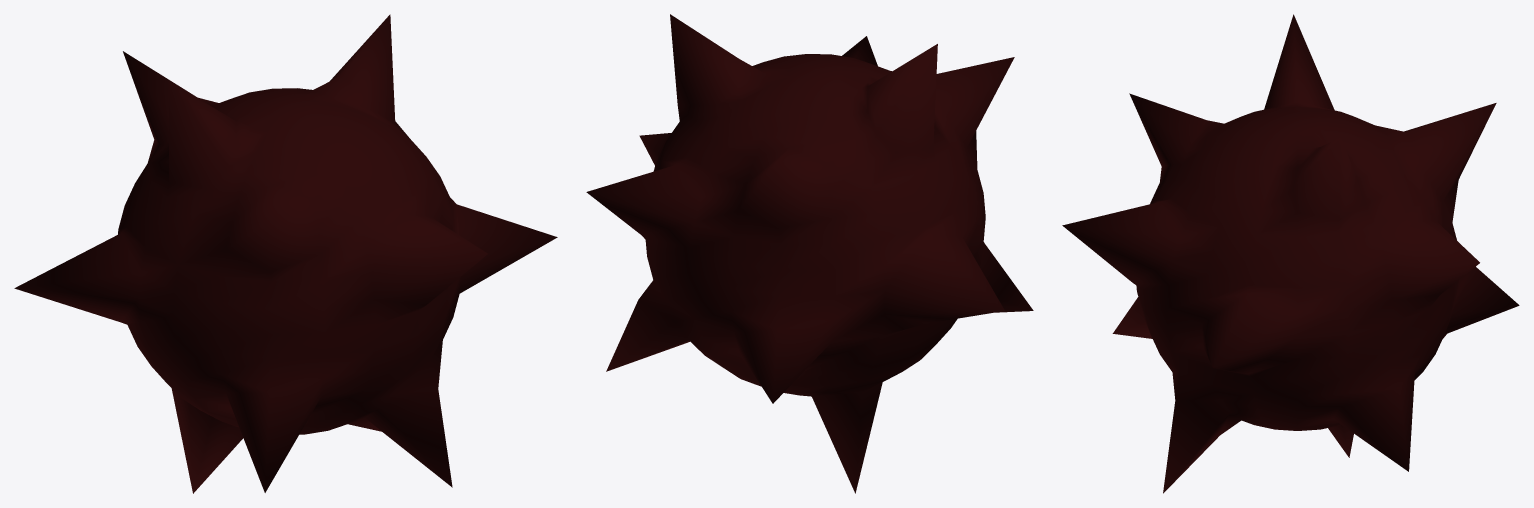
The model's file is Spikeball.fbx.
The picture shows the model from 3 angles, left to right: view 1: azimuth 30°, elevation 25°; view 2: azimuth 150°, elevation 25°; view 3: azimuth 270°, elevation 25°; orthographic projection. The views are drawn at different scales.
Parts seen in each view (by area): view 1: spikeball; view 2: spikeball; view 3: spikeball.
Boxes of the visible parts, x1,y1,x2,y2 form: spikeball: (14,14,557,493); spikeball: (586,14,1033,493); spikeball: (1062,14,1519,493).
Bounding box in the file's own units: 3.04 × 2.85 × 2.81.
